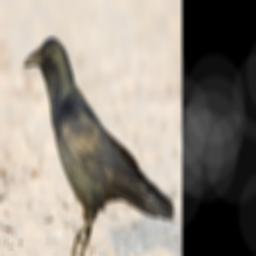Crow: (22, 35, 176, 256)
